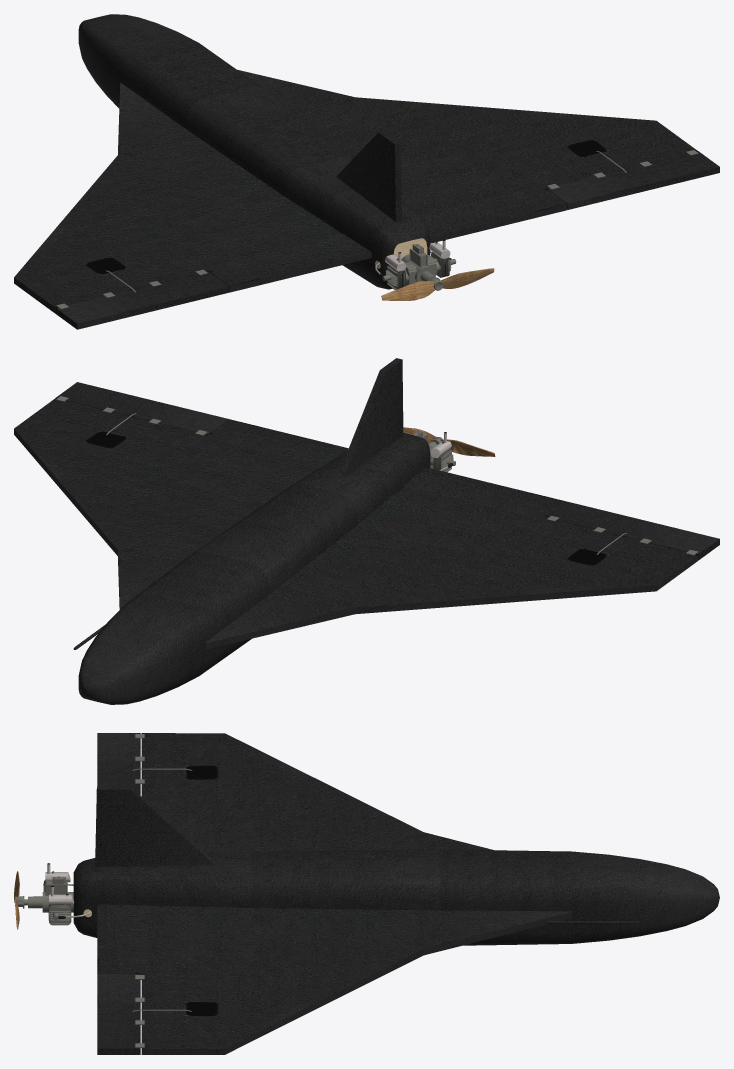
The model's file is gerbera.glb.
3 renders of one model, top to bottom at view 1: azimuth 30°, elevation 25°; view 2: azimuth 150°, elevation 25°; view 3: azimuth 270°, elevation 25°, orthographic.
Visible parts, largest first — view 1: body_Material.001_0; view 2: body_Material.001_0; view 3: body_Material.001_0.
Boxes of the visible parts, box(x1,y1,x2,y2) form: body_Material.001_0: box(14, 14, 719, 329); body_Material.001_0: box(14, 358, 719, 704); body_Material.001_0: box(14, 733, 719, 1054).
Bounding box in the file's own units: 4.57 × 0.971 × 4.32.
1 material, 1 textured.
